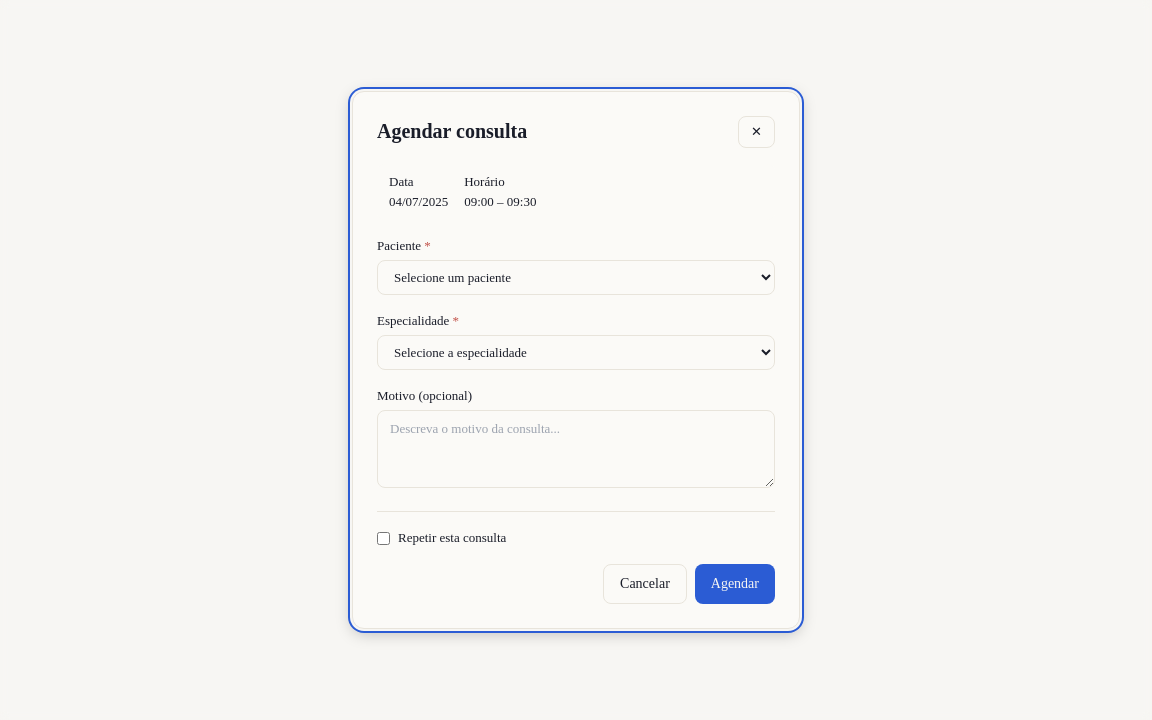
Test case: BookAppointmentDialog (integration) › specialty selection › shows validation error when submitting without selecting specialty (2+ specialties)
expect the dropdown with test id "book-dialog-specialty" is shown: met, box top-left (377, 335), bottom-right (775, 370)
Select "Patient One" in the dropdown with test id "book-dialog-patient" at (576, 278), box top-left (377, 260), bottom-right (775, 295)
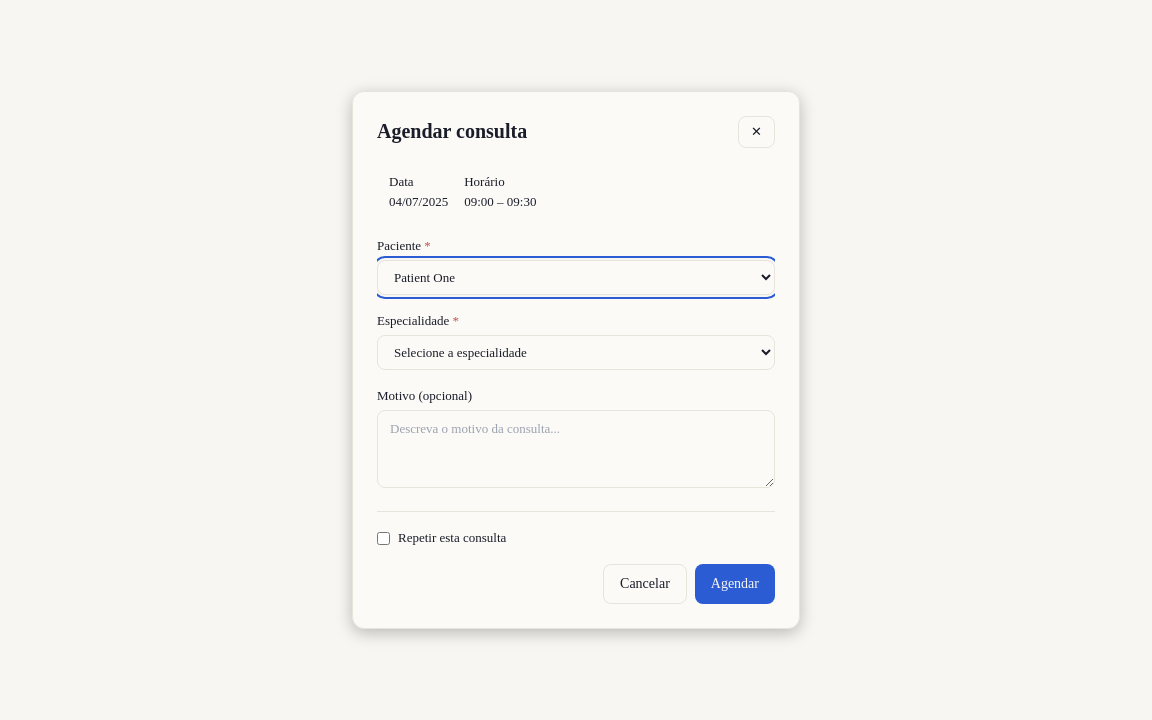
Click the button with test id "book-dialog-submit" at (735, 584), box top-left (695, 564), bottom-right (775, 604)
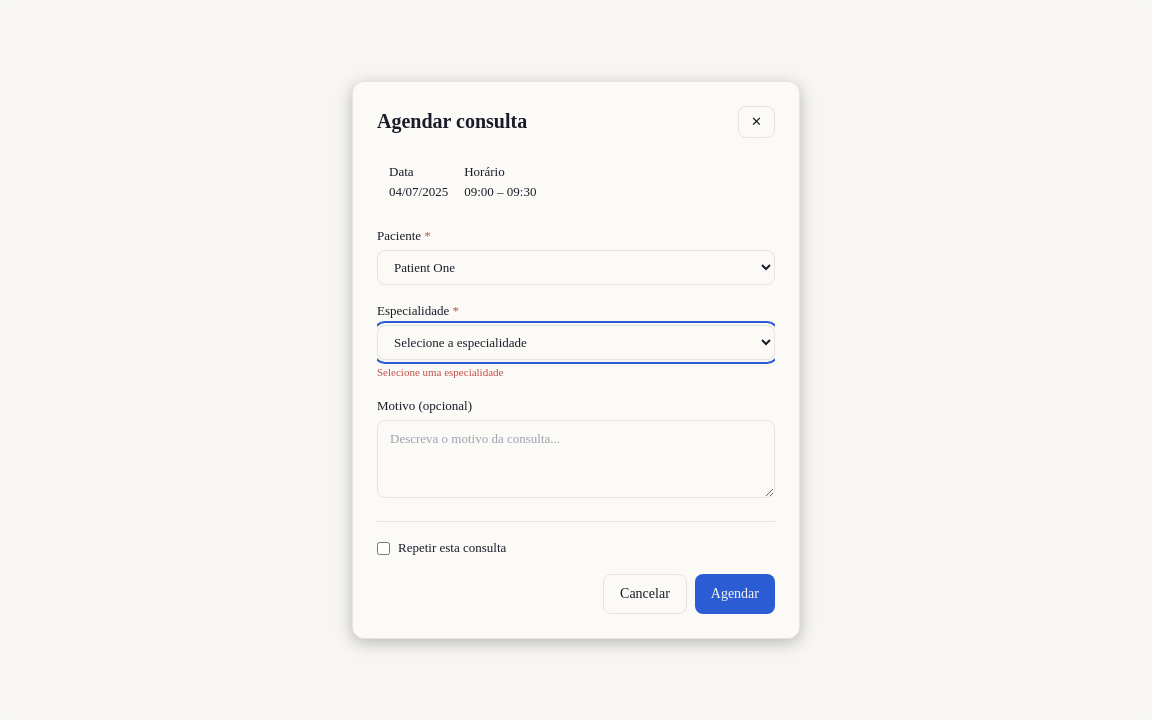
expect the text with test id "book-dialog-specialty-error" reads "Selecione uma especialidade": met, box top-left (377, 366), bottom-right (504, 378)
